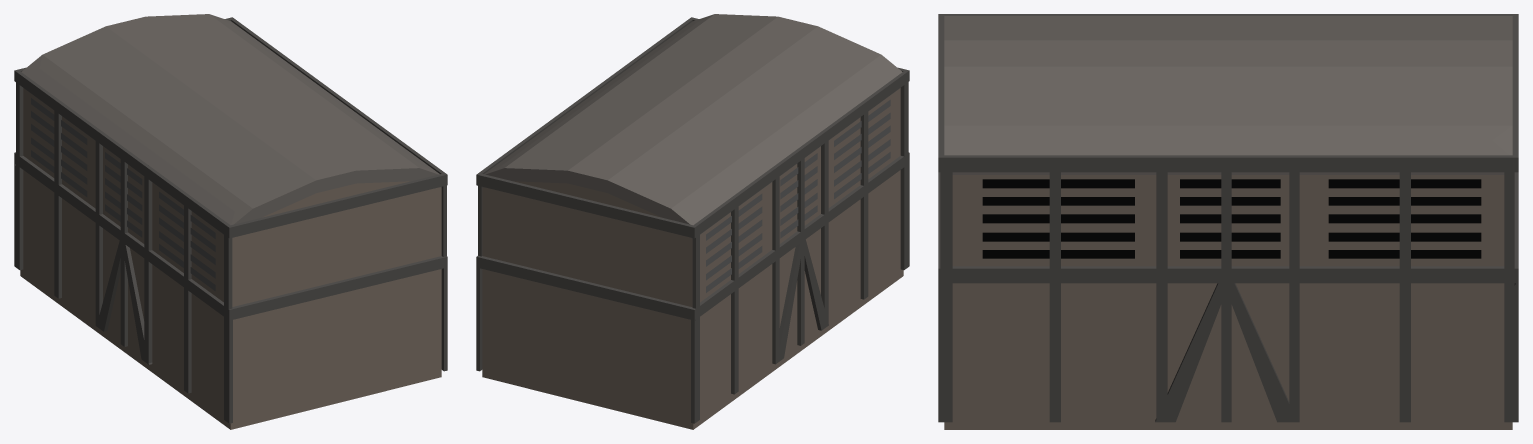
Rendered from livestock-body.dae.
The picture shows the model from 3 angles, left to right: view 1: azimuth 30°, elevation 25°; view 2: azimuth 150°, elevation 25°; view 3: azimuth 270°, elevation 25°; orthographic projection. The views are drawn at different scales.
Parts seen in each view (by area): view 1: Cube_013, Cube_012, Cube_010, Cube_004, Plane_004; view 2: Cube_013, Cube_012, Cube_010, Cube_004, Plane_004; view 3: Cube_013, Cube_012, Plane_003, Cube_010, Cube_004.
Part boxes in pixels (bbox=[...]): Cube_013: bbox=[20, 14, 441, 429]; Cube_012: bbox=[14, 79, 447, 423]; Cube_010: bbox=[14, 17, 447, 238]; Cube_004: bbox=[14, 152, 447, 320]; Plane_004: bbox=[31, 98, 215, 291]; Cube_013: bbox=[482, 14, 903, 429]; Cube_012: bbox=[476, 82, 909, 423]; Cube_010: bbox=[476, 17, 909, 238]; Cube_004: bbox=[476, 152, 909, 320]; Plane_004: bbox=[706, 99, 890, 292]; Cube_013: bbox=[944, 16, 1512, 429]; Cube_012: bbox=[938, 161, 1518, 422]; Plane_003: bbox=[982, 179, 1481, 258]; Cube_010: bbox=[938, 14, 1518, 172]; Cube_004: bbox=[938, 172, 1518, 283].
Bounding box in the file's own units: 1.97 × 3.36 × 1.97.
